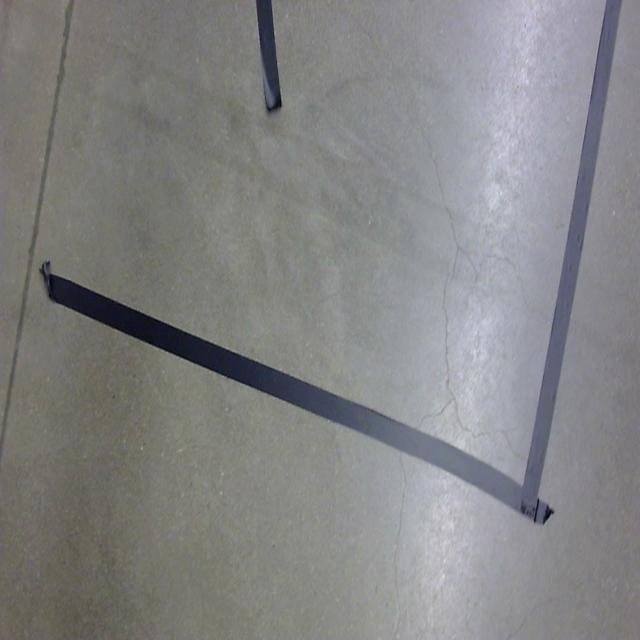tape: (40, 257, 552, 530), (520, 4, 624, 523), (256, 0, 282, 114)
